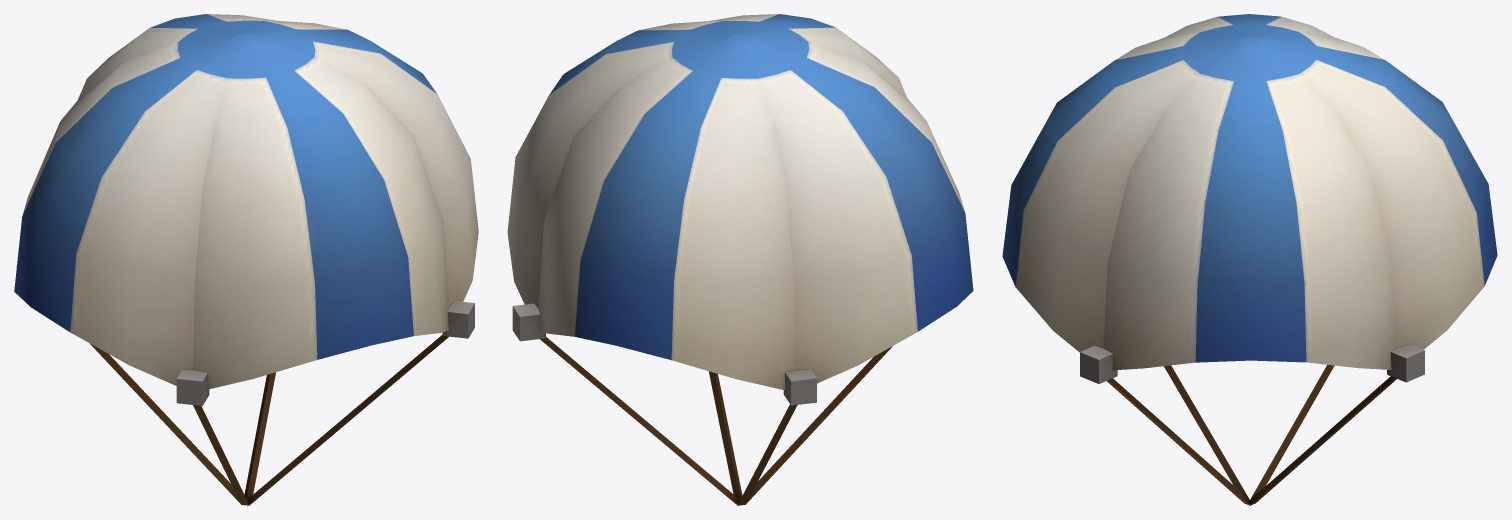
Rendered from San_01.fbx.
3 renders of one model, left to right at view 1: azimuth 30°, elevation 25°; view 2: azimuth 150°, elevation 25°; view 3: azimuth 270°, elevation 25°, orthographic.
Visible parts, largest first — view 1: pSphere3; view 2: pSphere3; view 3: pSphere3.
Part boxes in pixels (x1,y1,x2,y2): pSphere3: (14,14,478,505); pSphere3: (507,14,973,505); pSphere3: (1002,14,1497,505).
Bounding box in the file's own units: 0.0741 × 0.0764 × 0.0741.
